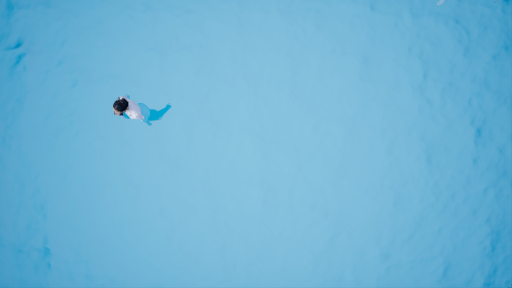person: (111, 91, 173, 129)
